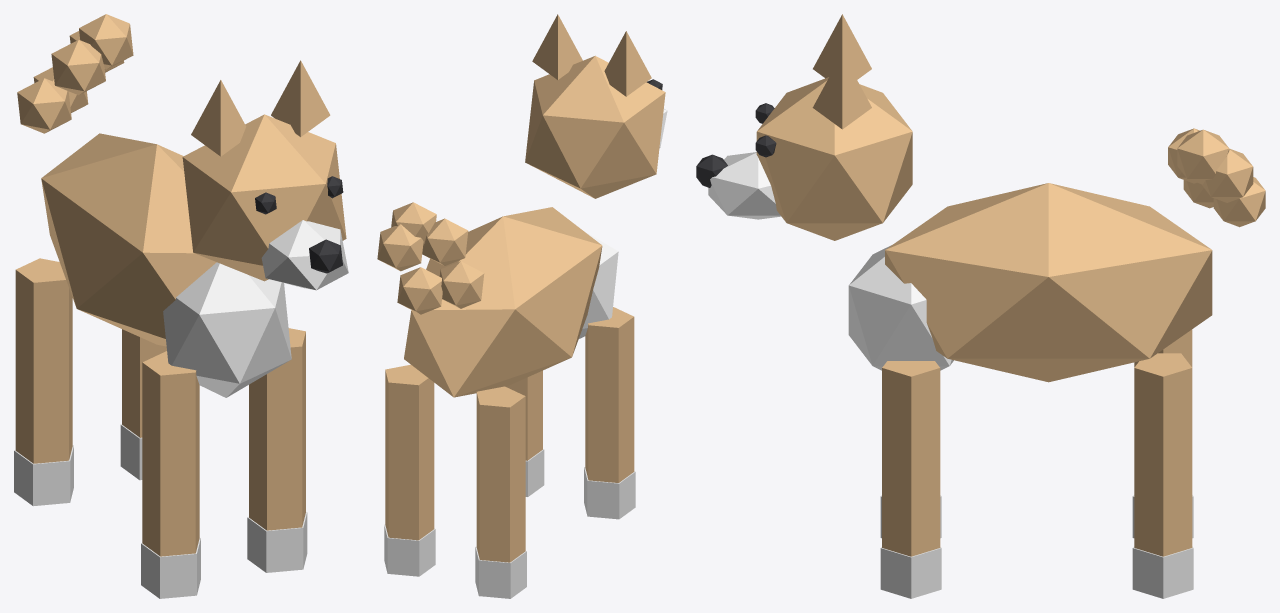
The model's file is shiba.glb.
3 views of the same model, side by side, from view 1: azimuth 30°, elevation 25°; view 2: azimuth 150°, elevation 25°; view 3: azimuth 270°, elevation 25° (orthographic). The views are drawn at different scales.
Visible parts, largest first — view 1: shiba; view 2: shiba; view 3: shiba.
Boxes of the visible parts, <box> form: shiba: <box>14,14,348,598</box>; shiba: <box>377,14,667,598</box>; shiba: <box>696,14,1265,598</box>.
Bounding box in the file's own units: 0.2427 × 0.76 × 0.7453.
